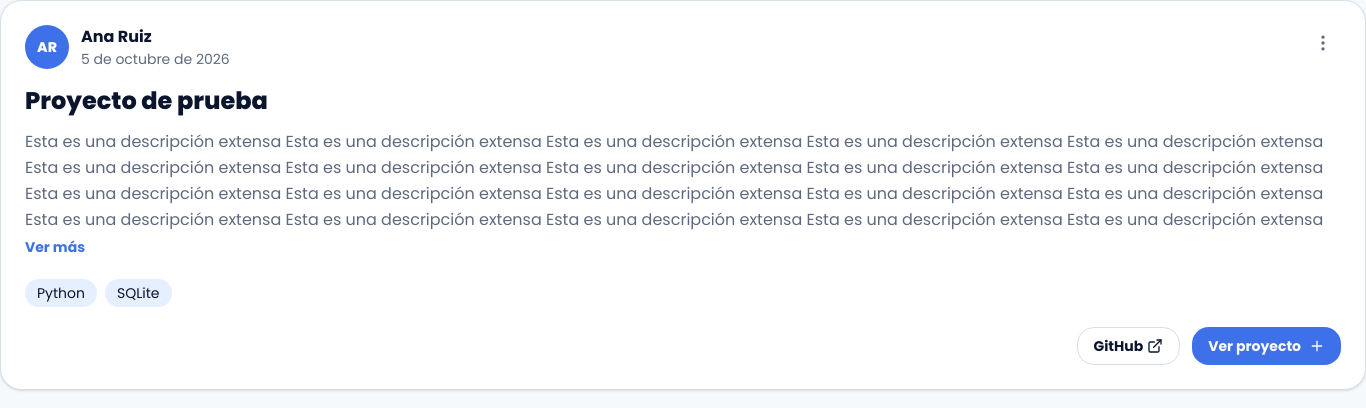
Scenario: ProjectCommunityFeed › expande y contrae una descripción larga en la misma publicación
This screenshot has width=1366, height=408.
Click the button "Ver más" at [55, 247], box [25, 237, 85, 257]
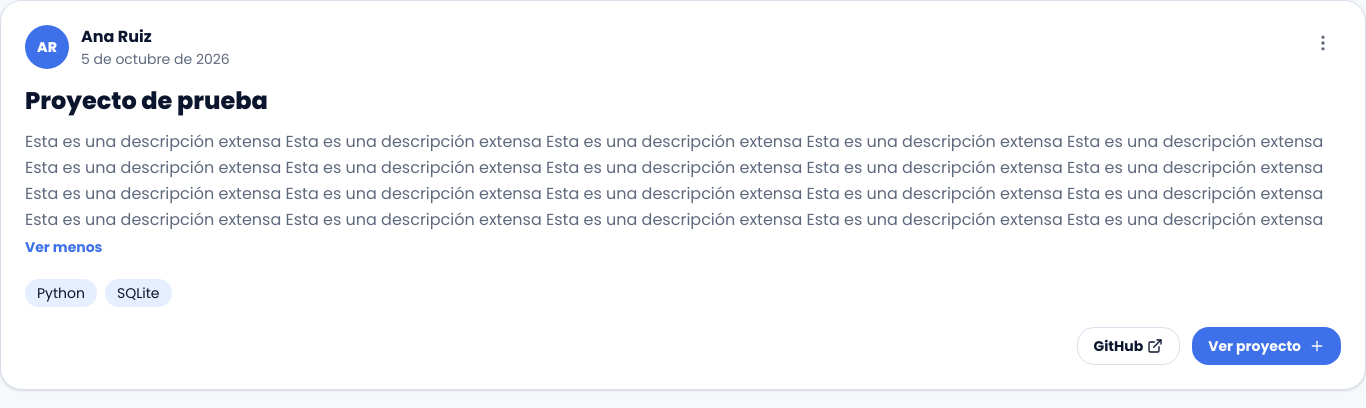
Expected: the button "Ver menos" is shown
Click the button "Ver menos" at [64, 247], box [25, 237, 102, 257]
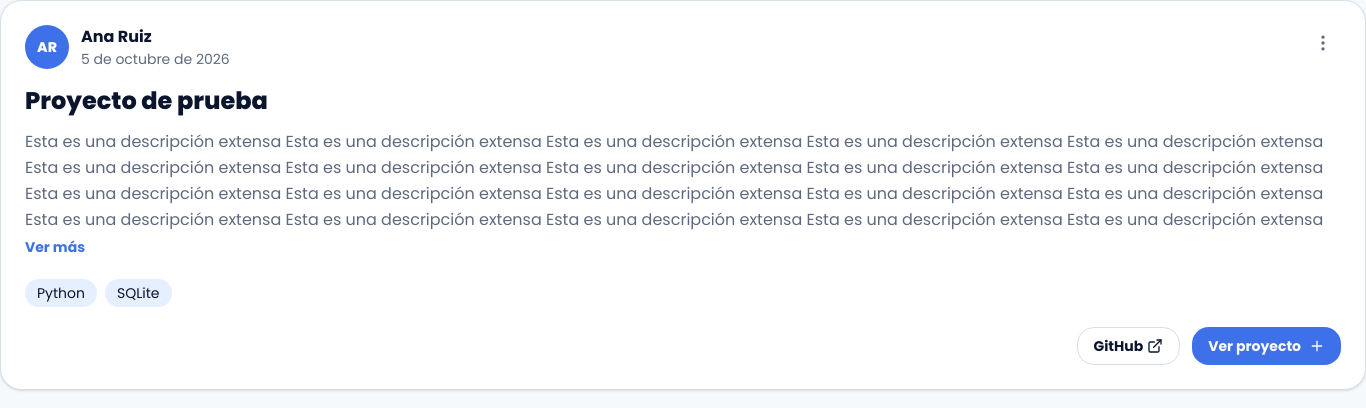
Expected: the button "Ver más" is shown, [25, 237, 85, 257]
